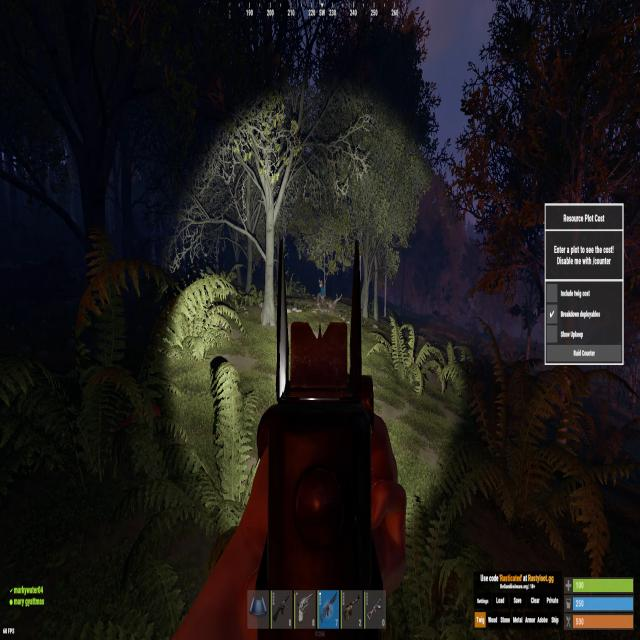Player: (316, 280, 327, 306)
